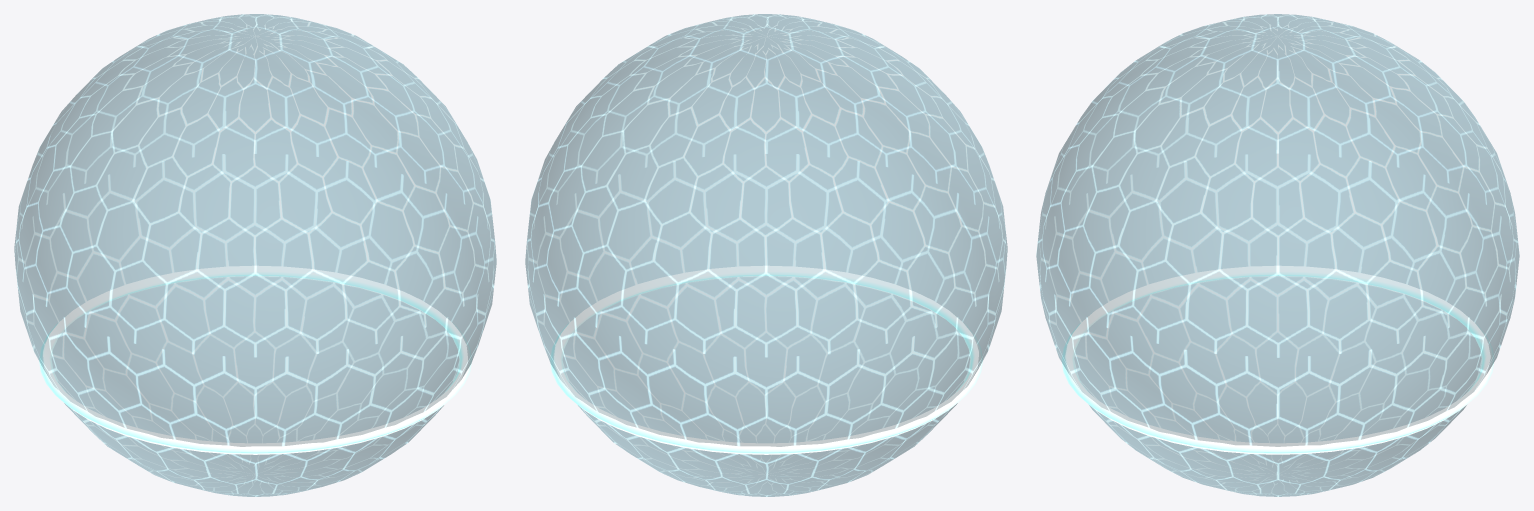
Rendered from kb_shell_frozen.glb.
3 renders of one model, left to right at view 1: azimuth 30°, elevation 25°; view 2: azimuth 150°, elevation 25°; view 3: azimuth 270°, elevation 25°, orthographic.
Parts seen in each view (by area): view 1: skin; view 2: skin; view 3: skin.
Boxes of the visible parts, x1,y1,x2,y2 form: skin: [14, 14, 496, 496]; skin: [525, 14, 1007, 496]; skin: [1036, 14, 1519, 496].
Bounding box in the file's own units: 2.3 × 2.3 × 2.3.
